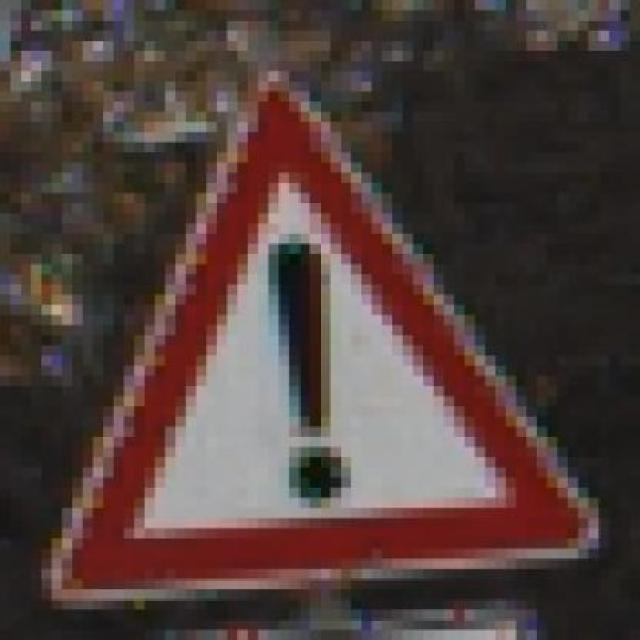Attention Please-: (35, 60, 593, 609)
